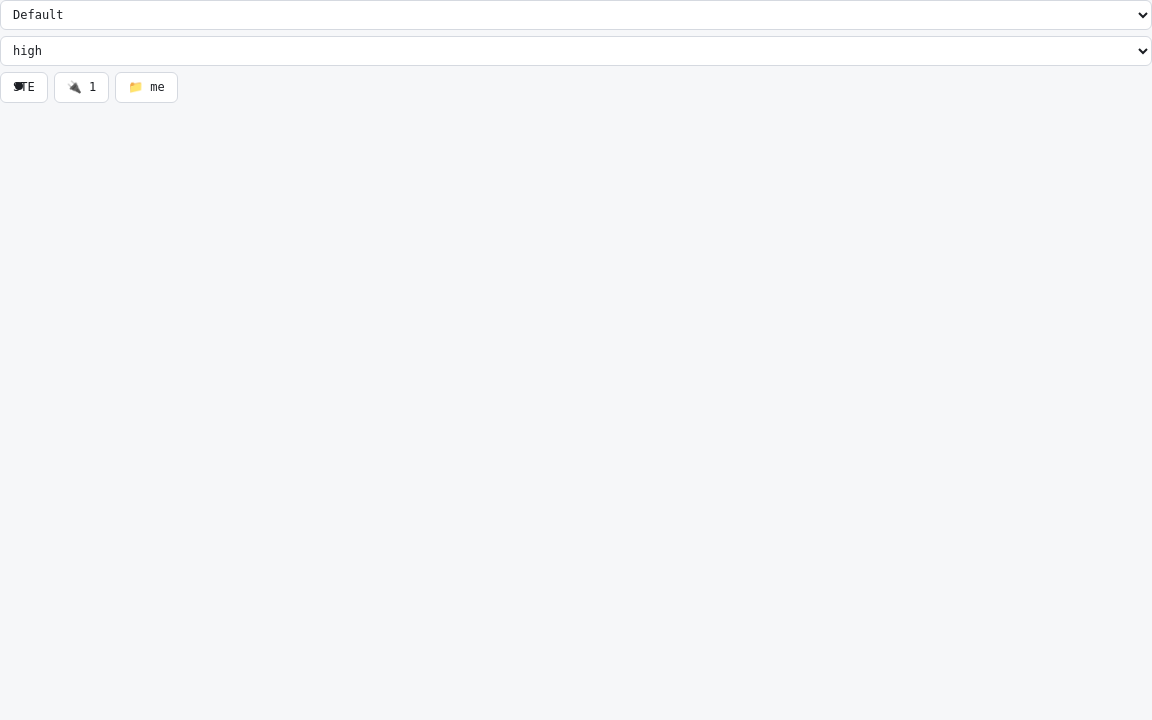
Test: a needs-auth connector is disabled with a hint
The width and height of the screenshot is (1152, 720).
Step 1. Click the button named "Connectors" → (81, 88), box [54,72,109,103]
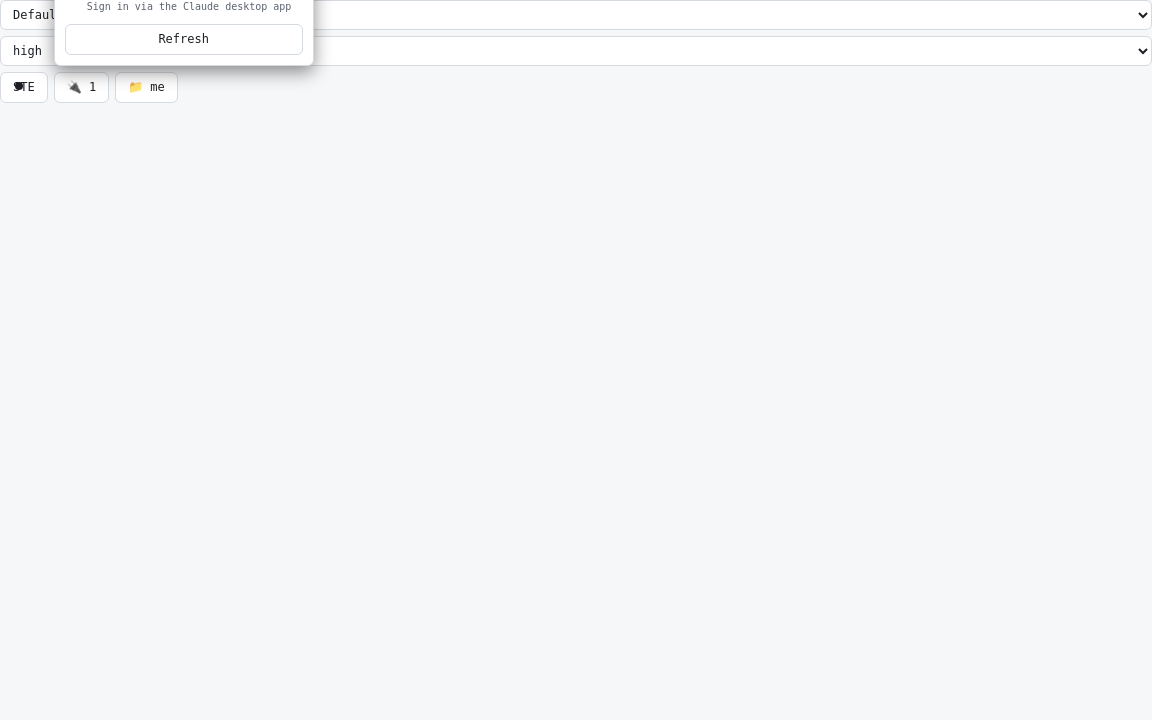
Check: the text "Sign in via the Claude desktop app" is shown, box [87,0,303,15]
